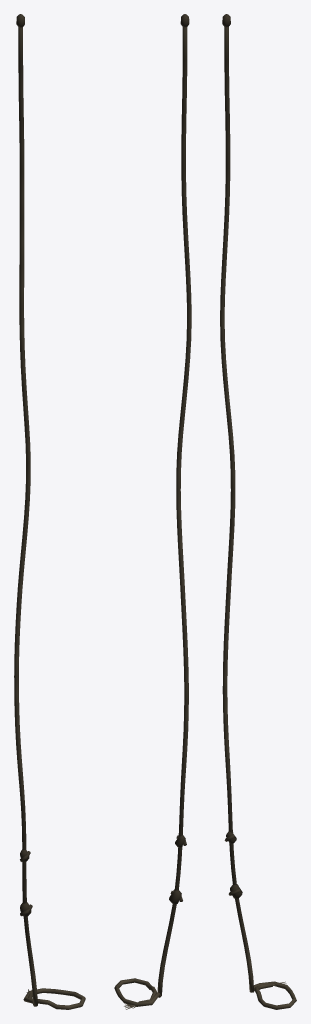
Rendered from prop_bell_rope.glb.
The picture shows the model from 3 angles, left to right: view 1: azimuth 30°, elevation 25°; view 2: azimuth 150°, elevation 25°; view 3: azimuth 330°, elevation 25°; orthographic projection. The views are drawn at different scales.
Parts seen in each view (by area): view 1: BellRopeSoft; view 2: BellRopeSoft; view 3: BellRopeSoft.
Boxes of the visible parts, bbox=[...] form: BellRopeSoft: bbox=[14, 14, 85, 1009]; BellRopeSoft: bbox=[114, 14, 191, 1009]; BellRopeSoft: bbox=[220, 14, 296, 1009].
Size of the model in its own units: 0.6826 by 9.29 by 0.5412.
